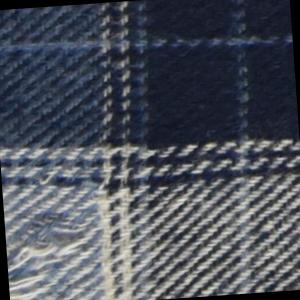Damage: (4, 201, 111, 300)
